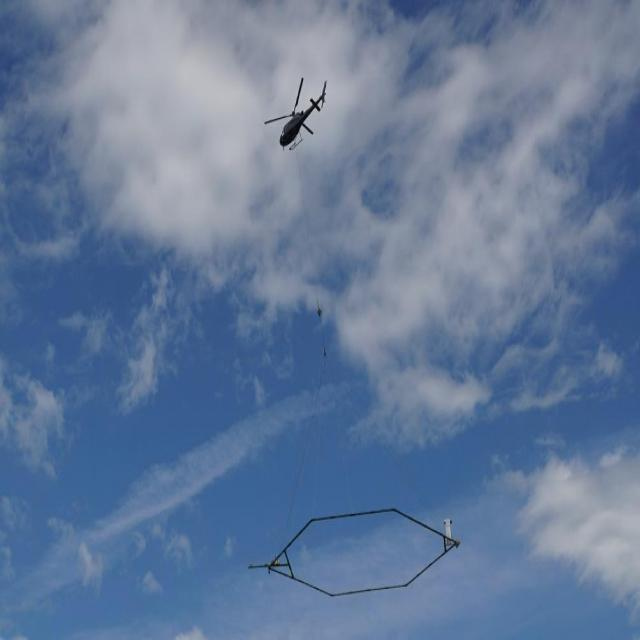helicopter: (263, 71, 328, 153)
